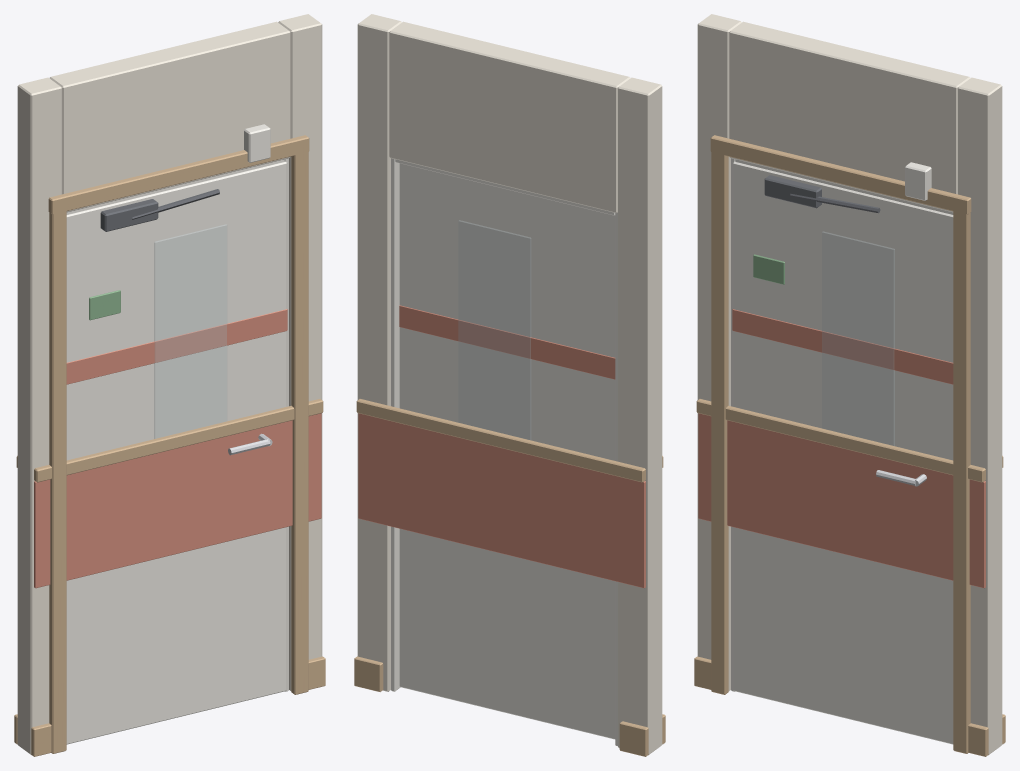
File: care-home-and-day-room-fire-door-module-7788f078__35765.glb
3 views of the same model, side by side, from view 1: azimuth 30°, elevation 25°; view 2: azimuth 150°, elevation 25°; view 3: azimuth 330°, elevation 25° (orthographic).
Visible parts, largest first — view 1: fire-door-module, door-1/cream, door-1/glass, door-1/accent, door-1/dark; view 2: fire-door-module, door-1/cream, door-1/glass, door-1/accent; view 3: fire-door-module, door-1/cream, door-1/glass, door-1/accent, door-1/dark.
Part boxes in pixels (x1,y1,x2,y2): fire-door-module: (14, 14, 325, 756); door-1/cream: (66, 161, 287, 744); door-1/glass: (154, 224, 226, 438); door-1/accent: (66, 309, 287, 384); door-1/dark: (100, 199, 158, 231); fire-door-module: (354, 14, 665, 756); door-1/cream: (399, 163, 615, 739); door-1/glass: (458, 220, 530, 439); door-1/accent: (399, 305, 615, 379); fire-door-module: (694, 14, 1005, 756); door-1/cream: (732, 161, 953, 744); door-1/glass: (822, 231, 894, 445); door-1/accent: (732, 309, 953, 384); door-1/dark: (764, 175, 821, 208).
Size of the model in its own units: 1.2 by 2.6 by 0.201.
